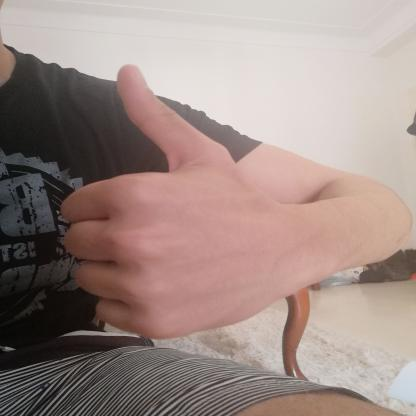ALIF: (27, 47, 300, 346)
